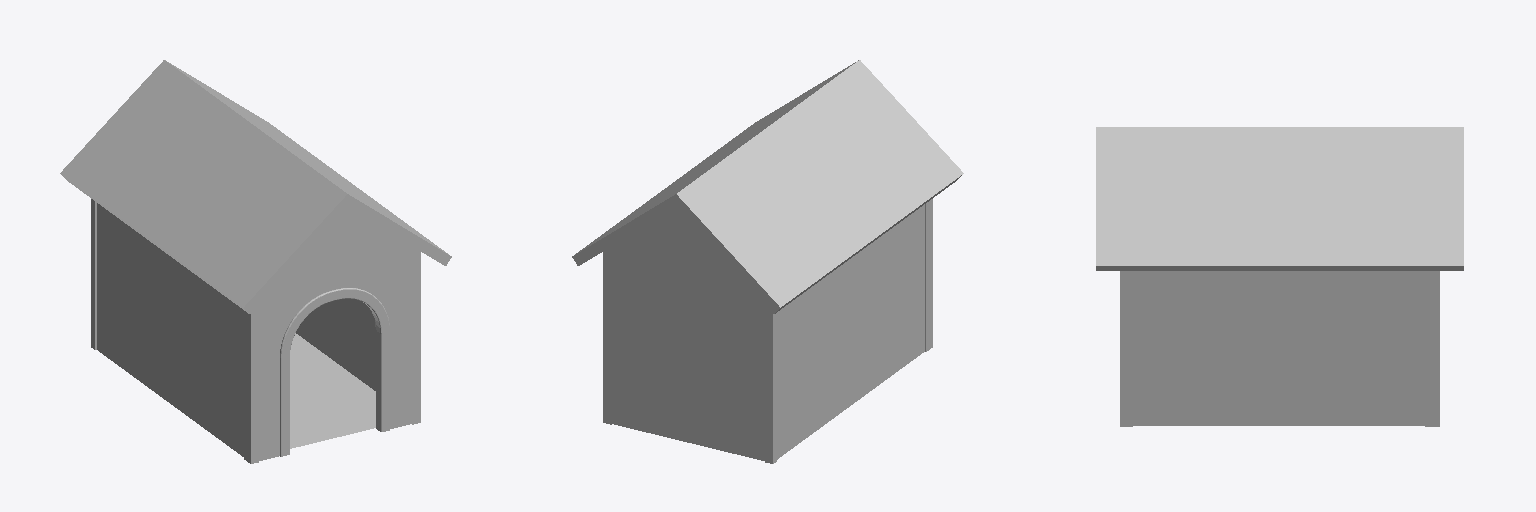
Rendered from doghouse.obj.
3 views of the same model, side by side, from view 1: azimuth 30°, elevation 25°; view 2: azimuth 150°, elevation 25°; view 3: azimuth 270°, elevation 25° (orthographic).
Parts seen in each view (by area): view 1: Cube__0; view 2: Cube__0; view 3: Cube__0.
Part boxes in pixels (left/top/right/bottom): Cube__0: left=60, top=60, right=451, bottom=463; Cube__0: left=572, top=60, right=963, bottom=463; Cube__0: left=1096, top=127, right=1463, bottom=426.
Size of the model in its own units: 0.9601 by 1.14 by 1.46.